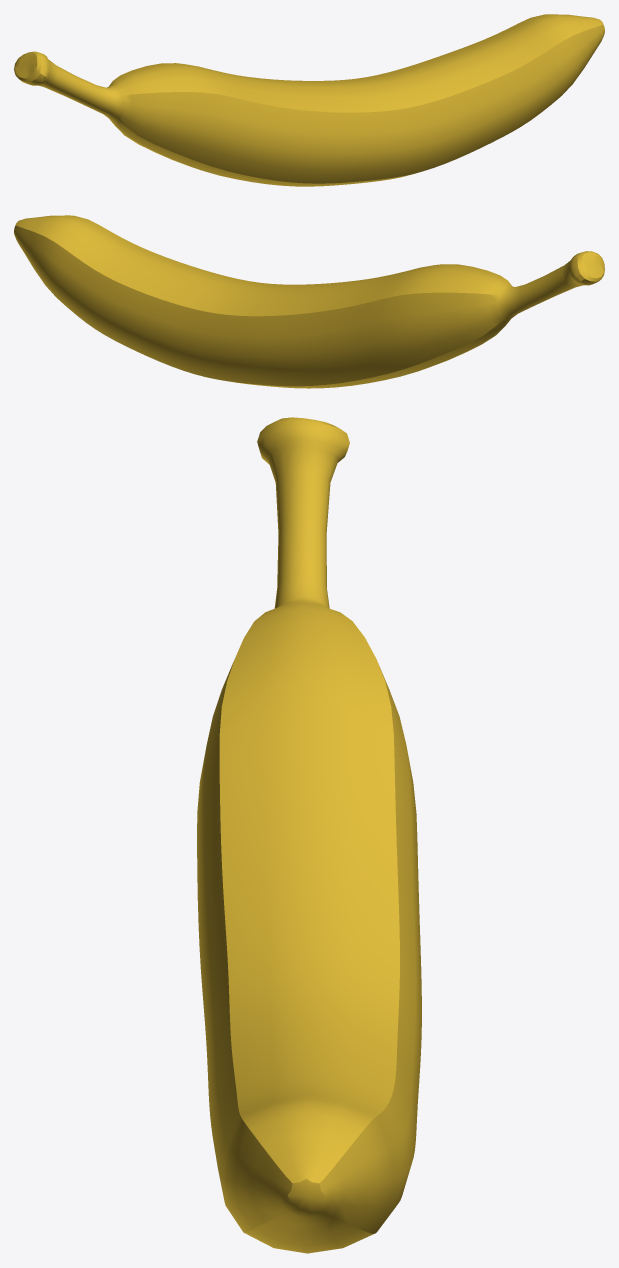
Rendered from Nanner.fbx.
3 renders of one model, top to bottom at view 1: azimuth 30°, elevation 25°; view 2: azimuth 150°, elevation 25°; view 3: azimuth 270°, elevation 25°, orthographic. The views are drawn at different scales.
Parts seen in each view (by area): view 1: Banana; view 2: Banana; view 3: Banana.
Part boxes in pixels (box(x1,y1,x2,y2)): Banana: box(14, 14, 604, 186); Banana: box(14, 215, 604, 388); Banana: box(197, 417, 421, 1253).
Size of the model in its own units: 9017 by 3059 by 1503.
